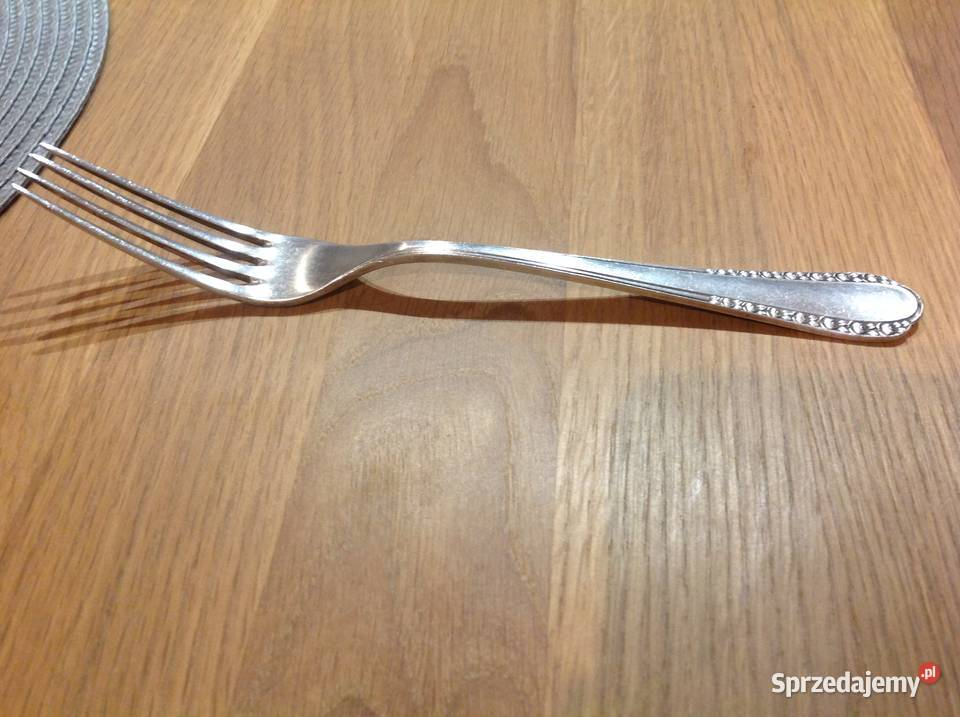Widelec: (8, 135, 368, 320)
